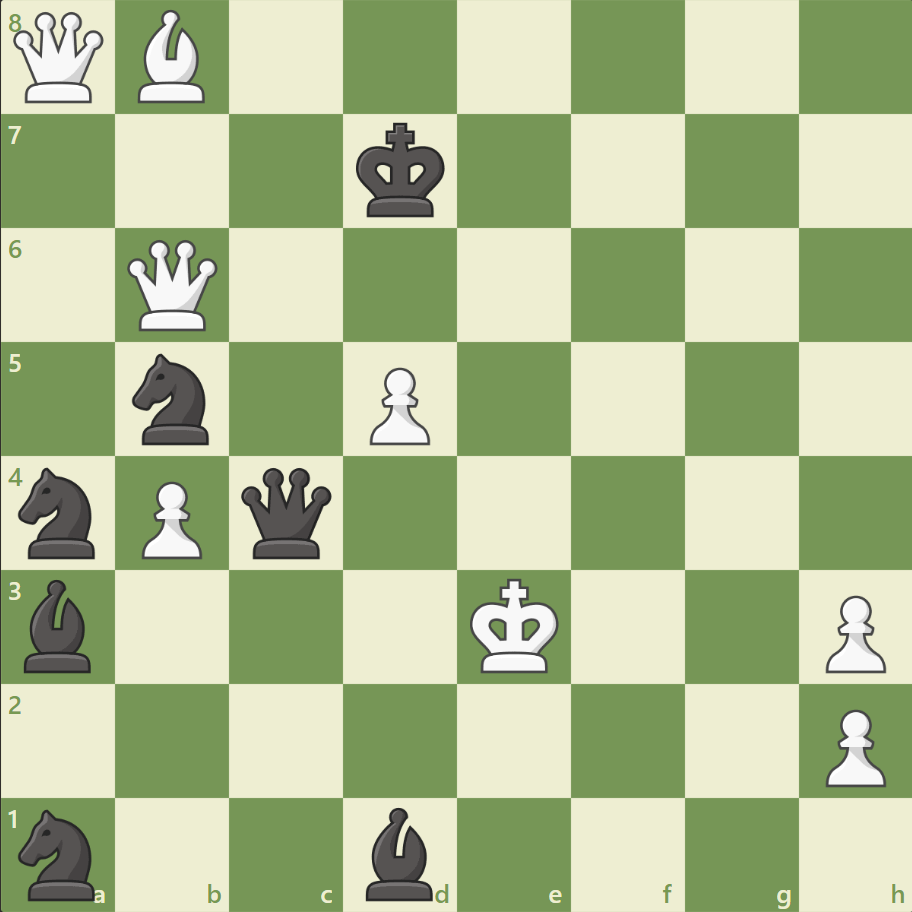B: (131, 6, 215, 109)
K: (465, 571, 565, 679)
P: (133, 473, 208, 564), (361, 359, 435, 450), (815, 586, 889, 677), (815, 700, 889, 791)
Q: (10, 9, 109, 108), (124, 236, 223, 335)
b: (358, 801, 442, 904), (17, 574, 101, 676)
k: (351, 117, 451, 225)
n: (124, 348, 222, 450), (11, 461, 108, 564), (11, 802, 108, 904)
q: (237, 463, 336, 562)
